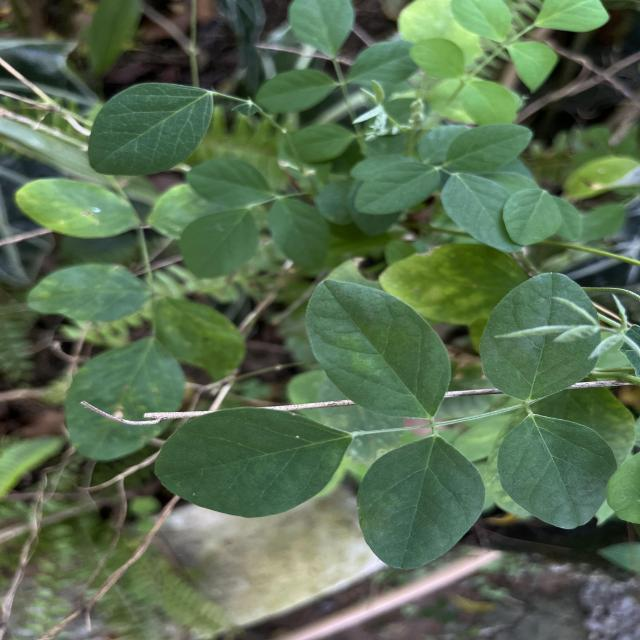Clitoria ternatea: (152, 406, 356, 518), (304, 278, 452, 420), (356, 434, 488, 572), (496, 414, 618, 530), (87, 81, 216, 178)
